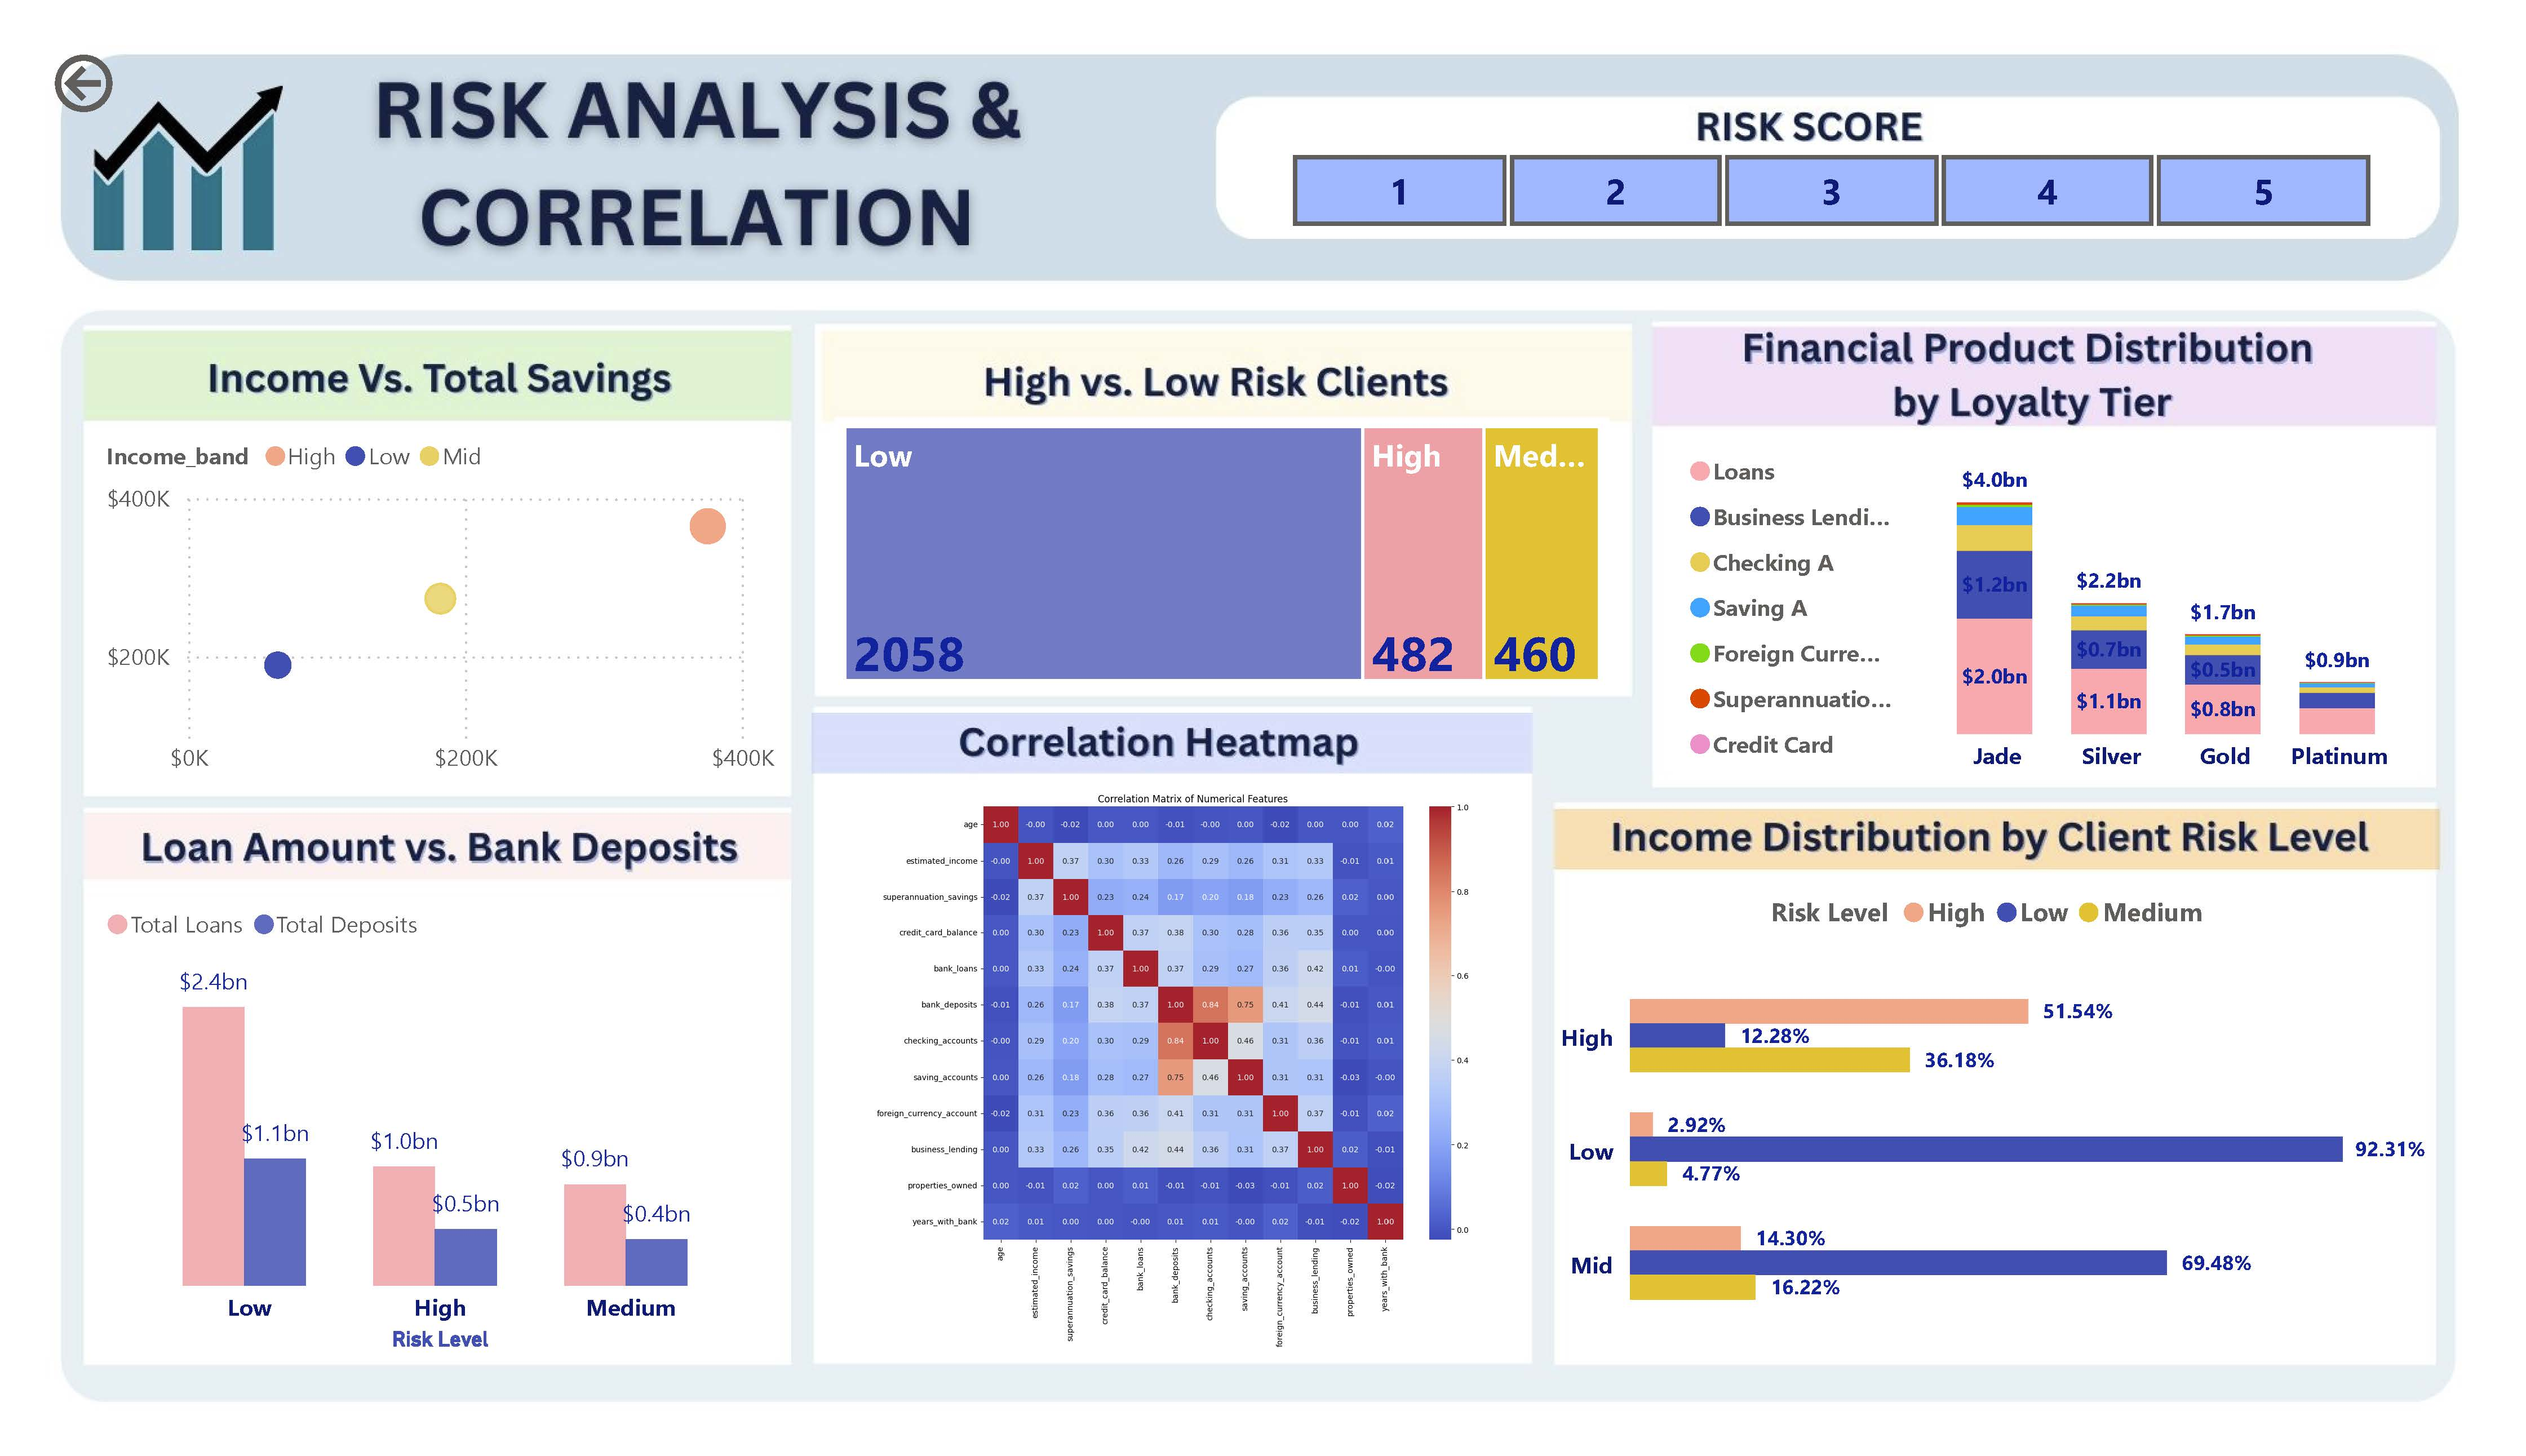

The dashboard page shown, as its layout file describes it:
{"tool":"powerbi","page":{"name":"Risk Analysis","canvas":[1280,720],"ordinal":1},"visuals":[{"type":"slicer","fields":{"Values":["Banking_final.risk_score"]},"box":[629.6,51.3,616.2,50.1],"z":0},{"type":"scatterChart","fields":{"Y":["Calculations.AVG_Total_Savings"],"Size":["Calculations.AVG_total_Loans"],"Series":["Banking_final.income_band"],"X":["Calculations.Average Estimated Income"]},"box":[26.9,196.8,360.6,196.8],"z":1000},{"type":"actionButton","box":[0,0,100,40],"z":2000},{"type":"clusteredColumnChart","fields":{"Category":["Banking_final.risk_level"],"Y":["Sum(Banking_final.total-loans)","Calculations.Toatal_bank_deposits"]},"box":[26.9,443.8,360.6,249.4],"z":3000},{"type":"treemap","fields":{"Group":["Banking_final.risk_level"],"Values":["Calculations.Clients_By_Risk"]},"box":[414.9,196.4,407.5,143.2],"z":4000},{"type":"columnChart","fields":{"Category":["Banking_final.loyalty_classification"],"Y":["Sum(Banking_final.total-loans)","Sum(Banking_final.business_lending)","Sum(Banking_final.checking_accounts)","Sum(Banking_final.saving_accounts)","Sum(Banking_final.foreign_currency_account)","Sum(Banking_final.superannuation_savings)","Sum(Banking_final.credit_card_balance)"]},"box":[859.2,206.7,397.1,186],"z":5000},{"type":"clusteredBarChart","fields":{"Category":["Banking_final.income_band"],"Series":["Banking_final.risk_level"],"Y":["Calculations.Pct_Clients_By_IncomeRisk"]},"box":[789.9,437,466.5,256.9],"z":6000},{"type":"image","box":[207.8,386.7,769.2,307.4],"z":7000}]}

Visuals, with their boxes in screenshot pixels (x1, y1, x2, y2), scaled from the page's 1280x720 canvas onto the 2526x1456 screenshot:
slicer - Banking_final.risk_score: 1243, 104, 2458, 205
scatterChart - Calculations.AVG_Total_Savings x Calculations.AVG_total_Loans: 53, 398, 765, 796
actionButton: 0, 0, 197, 81
clusteredColumnChart - Banking_final.risk_level x Sum(Banking_final.total-loans): 53, 898, 765, 1402
treemap - Banking_final.risk_level x Calculations.Clients_By_Risk: 819, 397, 1623, 687
columnChart - Banking_final.loyalty_classification x Sum(Banking_final.total-loans): 1696, 418, 2479, 794
clusteredBarChart - Banking_final.income_band x Banking_final.risk_level: 1559, 884, 2479, 1403
image: 410, 782, 1928, 1404
